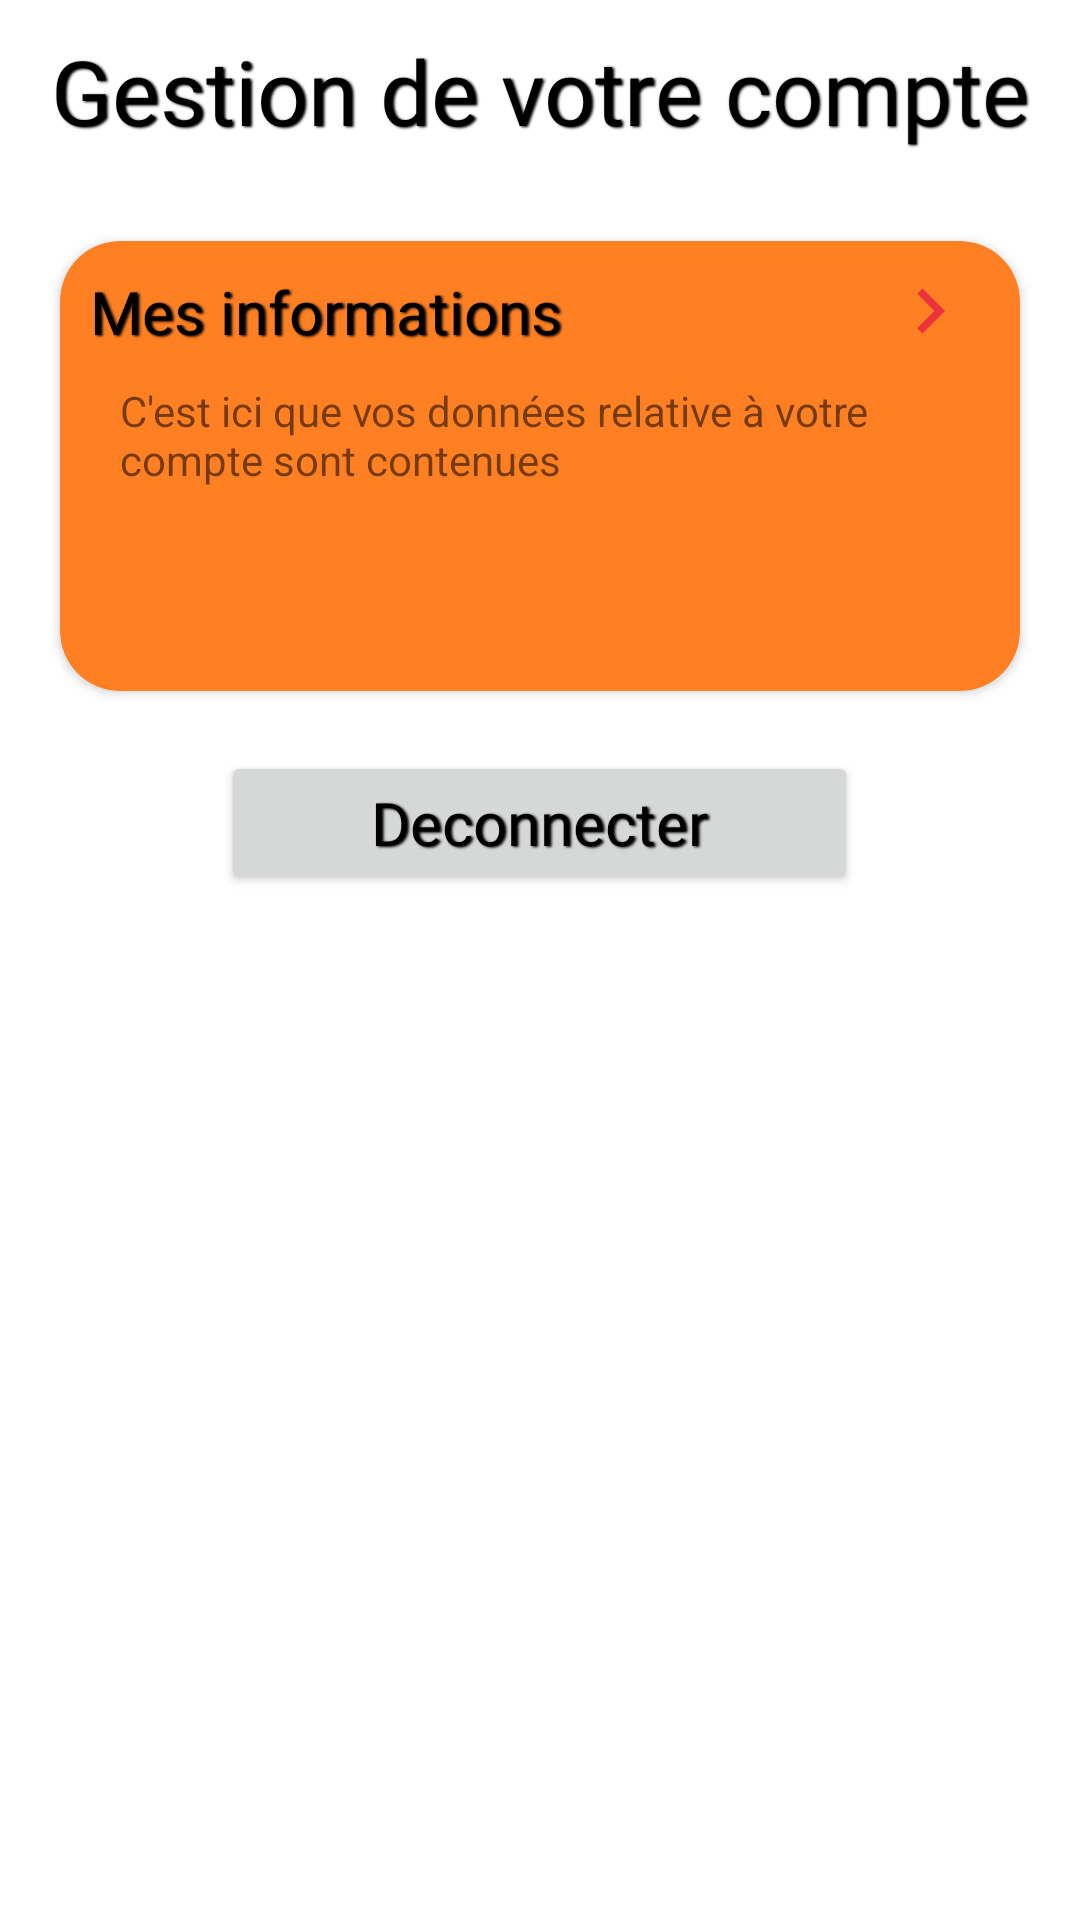

Locate icon controls on the screen. Image size 1080 x 1920, boxes as [x1, y1, x2, y2].
navigate next: [917, 289, 945, 333]
